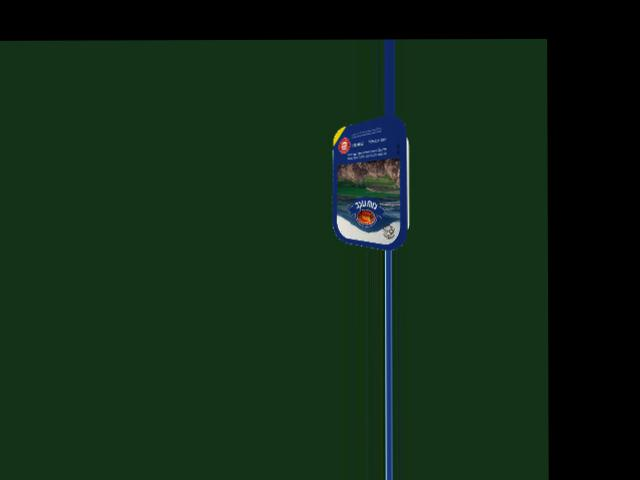cheese: (328, 130, 418, 240)
